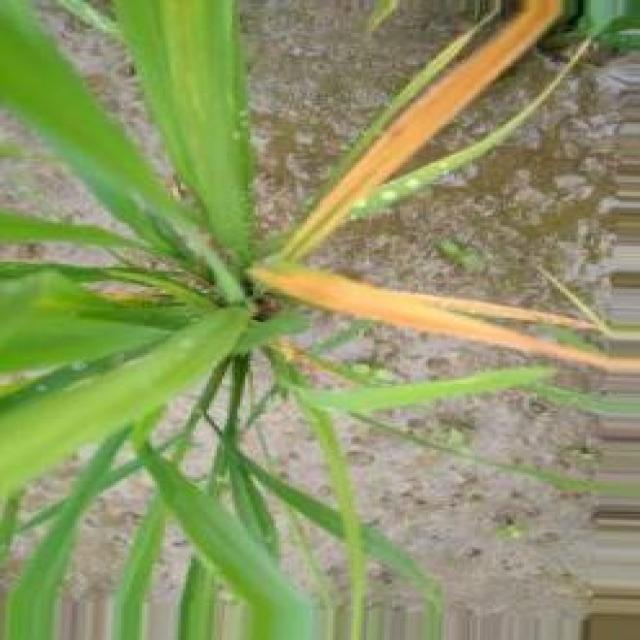Rice Tungro: (281, 0, 562, 259), (251, 265, 639, 373), (399, 293, 597, 331)
